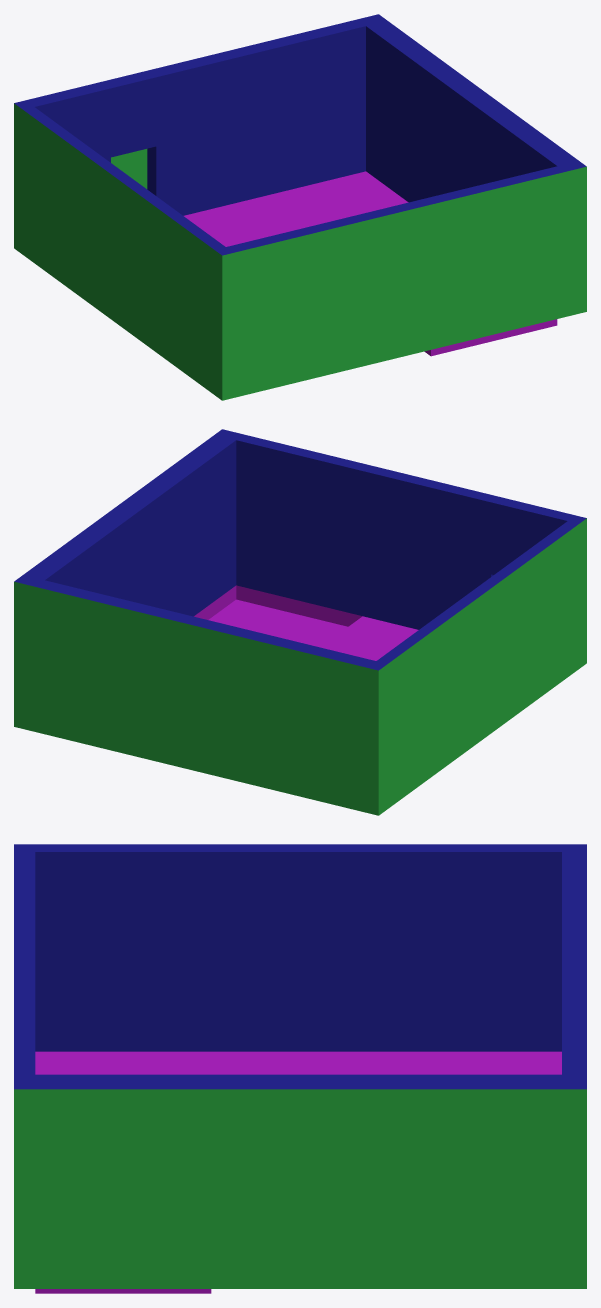
The model's file is Nivel1.FBX.
3 renders of one model, top to bottom at view 1: azimuth 30°, elevation 25°; view 2: azimuth 150°, elevation 25°; view 3: azimuth 270°, elevation 25°, orthographic. The views are drawn at different scales.
Visible parts, largest first — view 1: Paredes, Model; view 2: Paredes, Model; view 3: Paredes, Model.
Boxes of the visible parts, box(x1,y1,x2,y2) form: Paredes: box(14, 14, 586, 400); Model: box(184, 171, 557, 356); Paredes: box(14, 429, 586, 815); Model: box(194, 585, 418, 660); Paredes: box(14, 844, 586, 1288); Model: box(35, 1051, 561, 1293).
Size of the model in its own units: 394 by 165 by 390.
